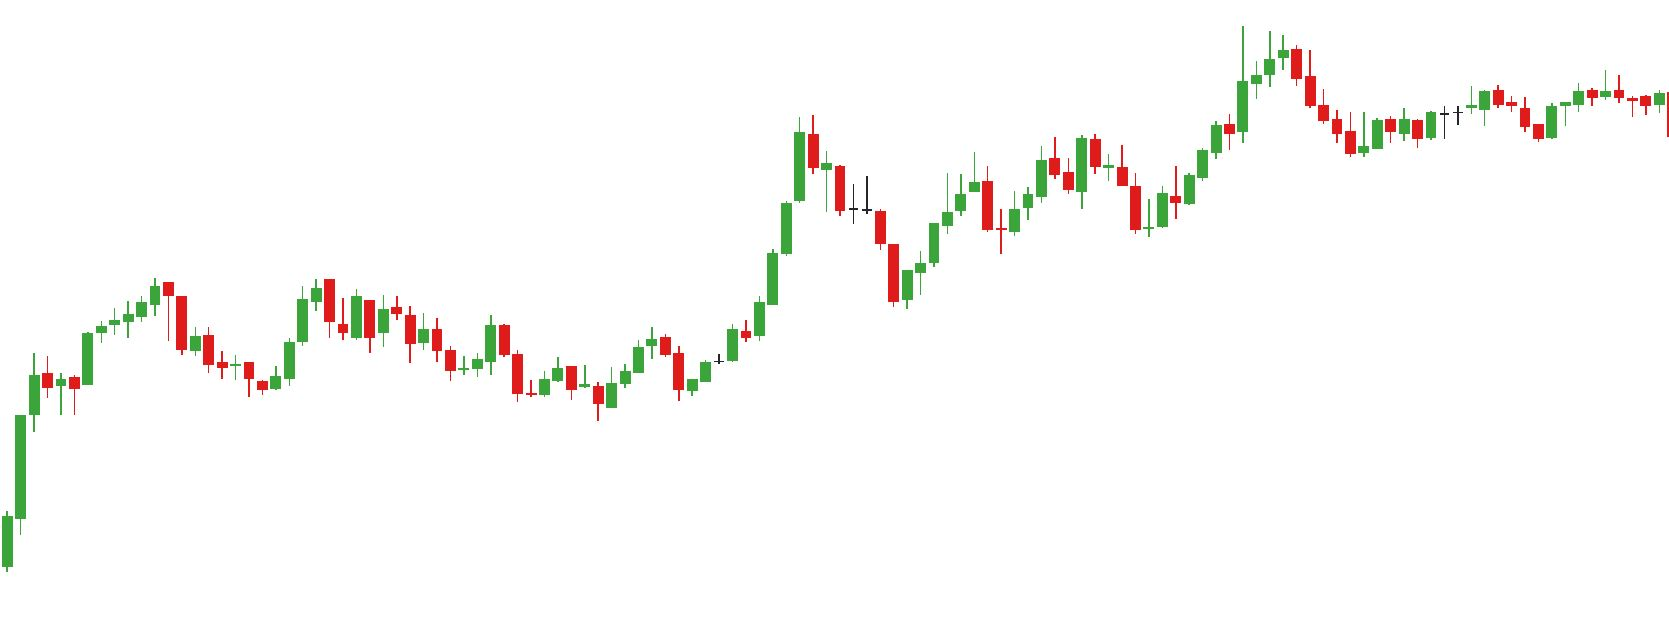buy: (1073, 145, 1169, 240)
